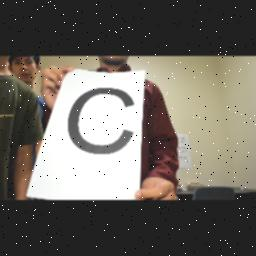c: (66, 80, 136, 164)
